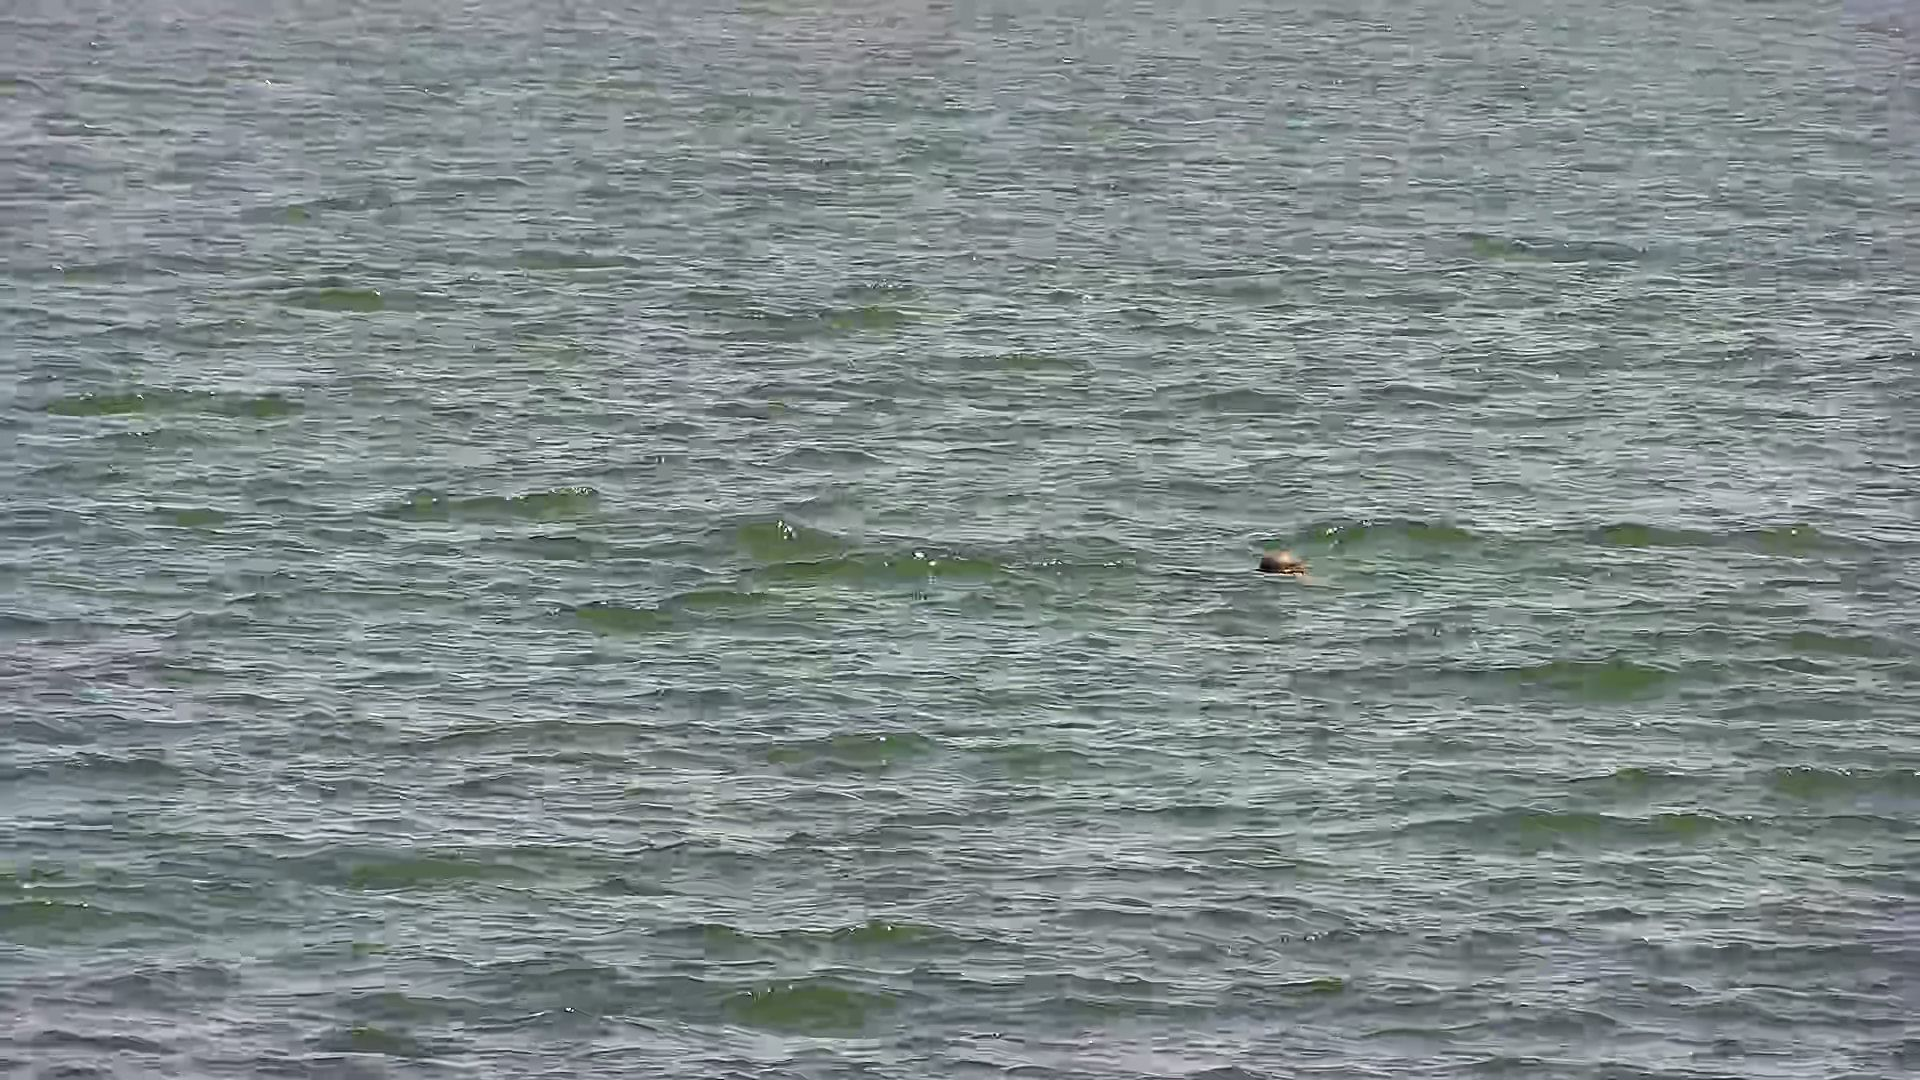ball: (1251, 535, 1316, 588)
